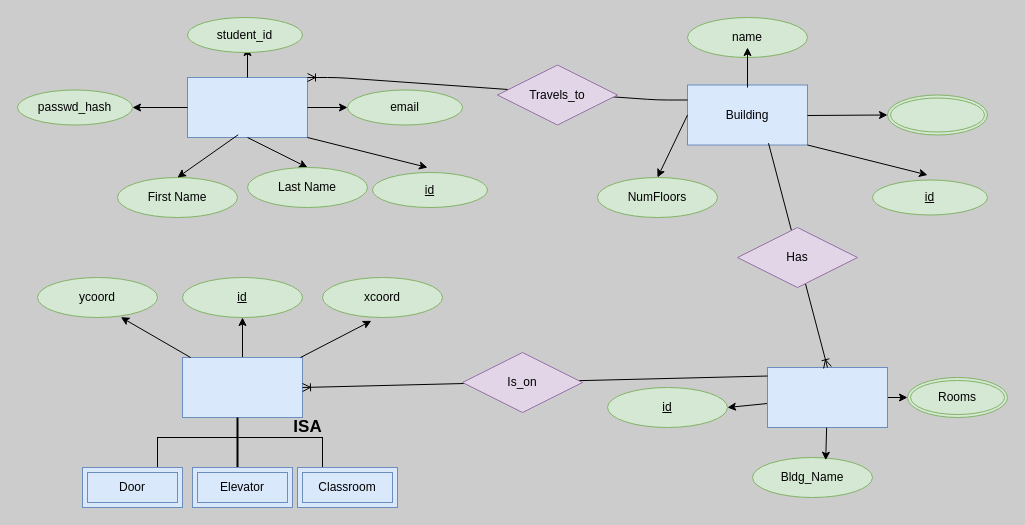
Some shapes in this 1025 by 525 pixel diagram are drawn without their labels. The shapes that lost their labels are listed below. From the top down, each one's box as (x1, y1, x2, y2) in pixels, then its label:
(186, 76, 308, 138): User
(886, 94, 988, 135): Coordinates
(182, 356, 302, 418): Room
(766, 366, 888, 428): Floor
